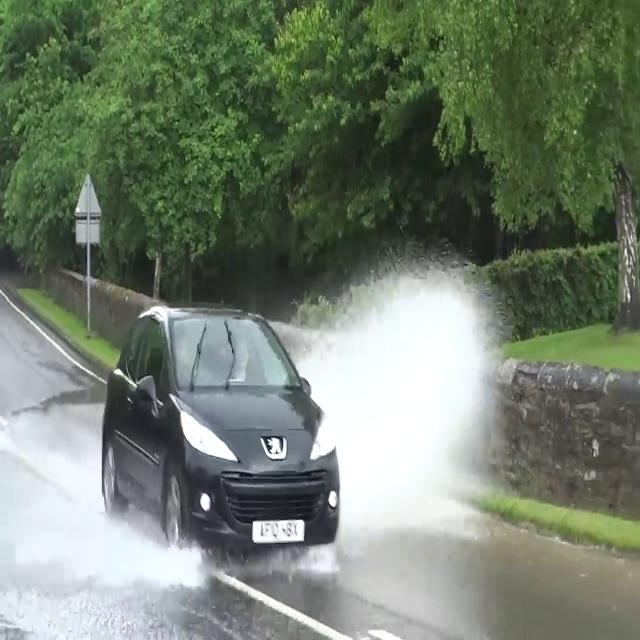license-plate-annotation: (255, 518, 304, 544)
